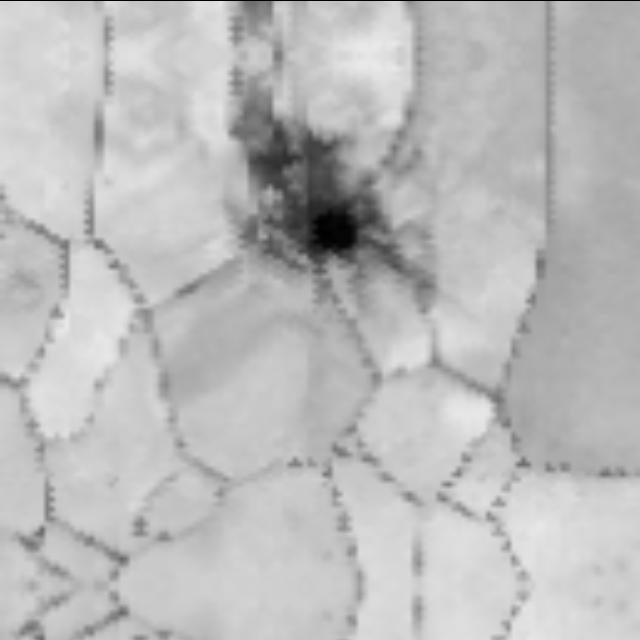good_void: (197, 54, 437, 313), (127, 499, 175, 552), (166, 272, 206, 308), (127, 617, 175, 640)
